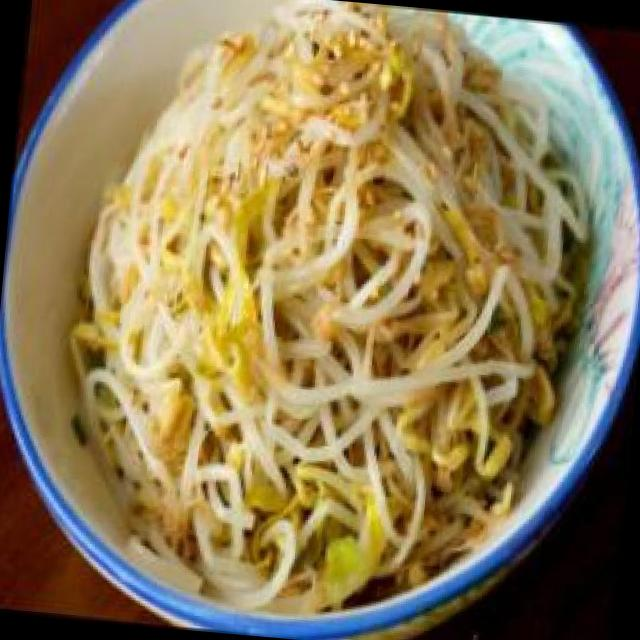mung_bean_sprouts: (46, 0, 609, 616)
